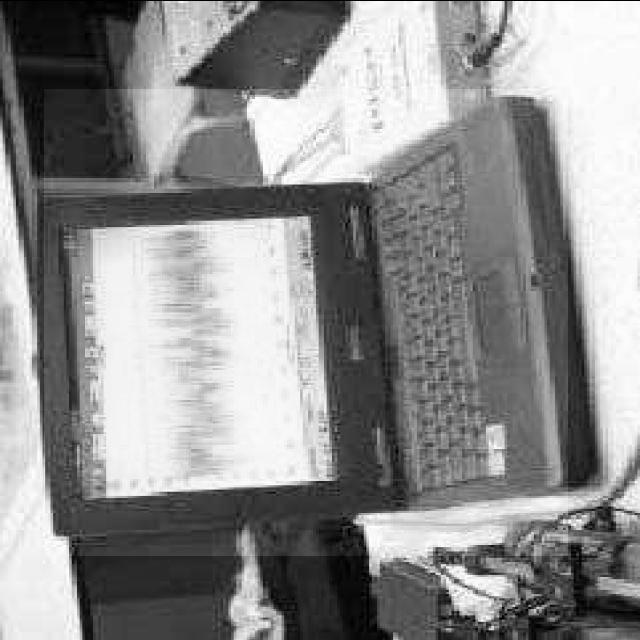-keyboard-: (44, 89, 568, 556)
